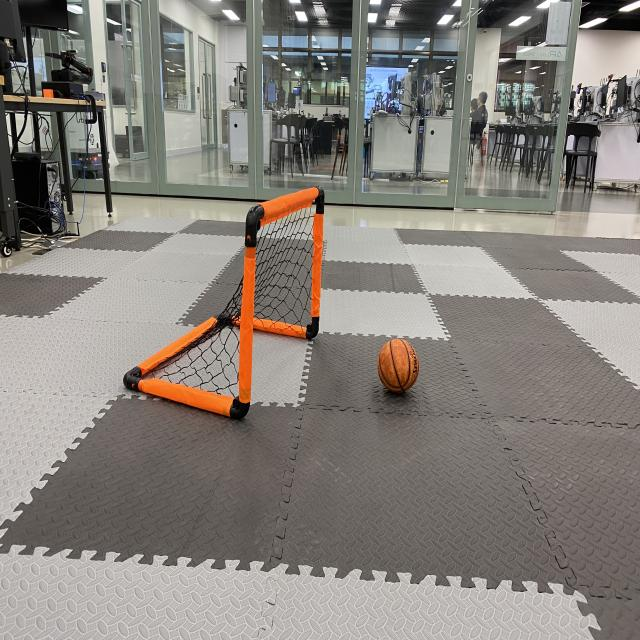ball: (373, 332, 422, 400)
gate: (120, 180, 330, 427)
